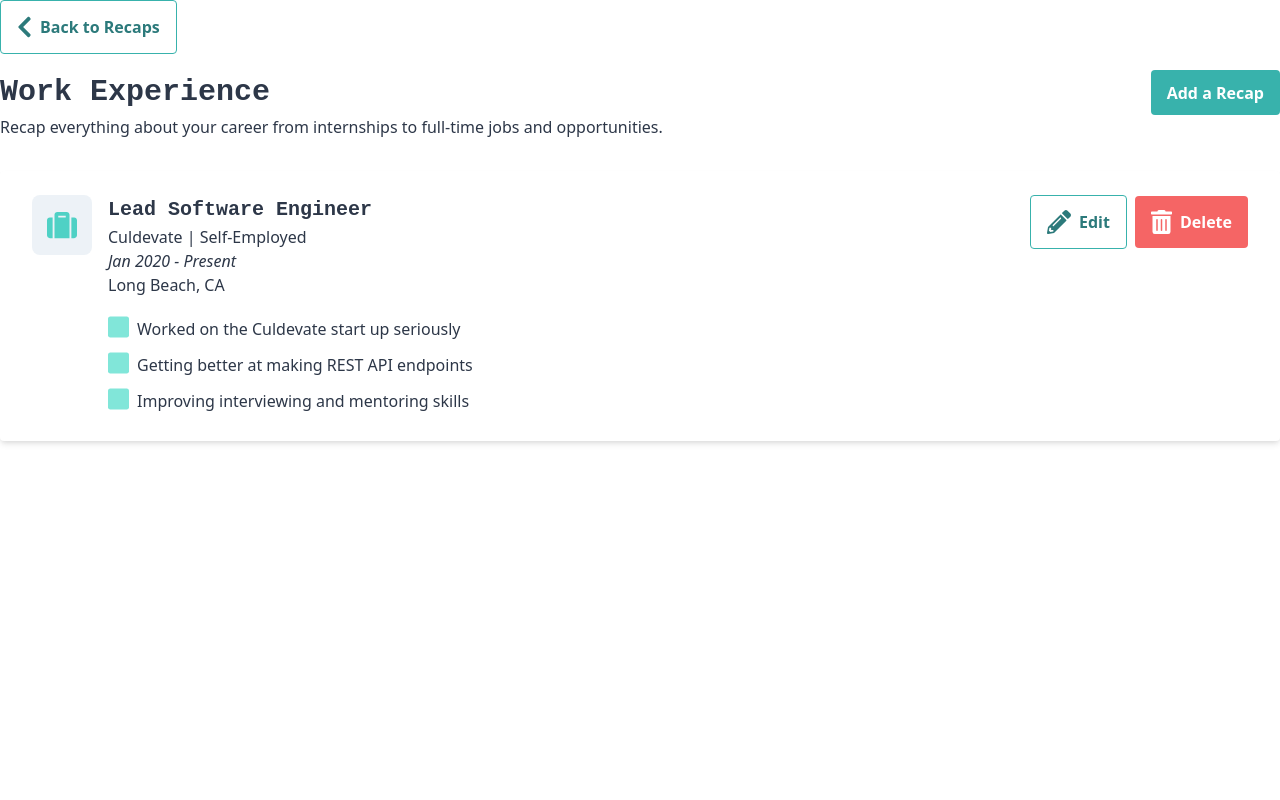
Test case: <WorkExperienceLayout /> › should show the error alert after failing to delete a recap
Click the button "Delete" at (1192, 222), box [1135,196,1248,248]
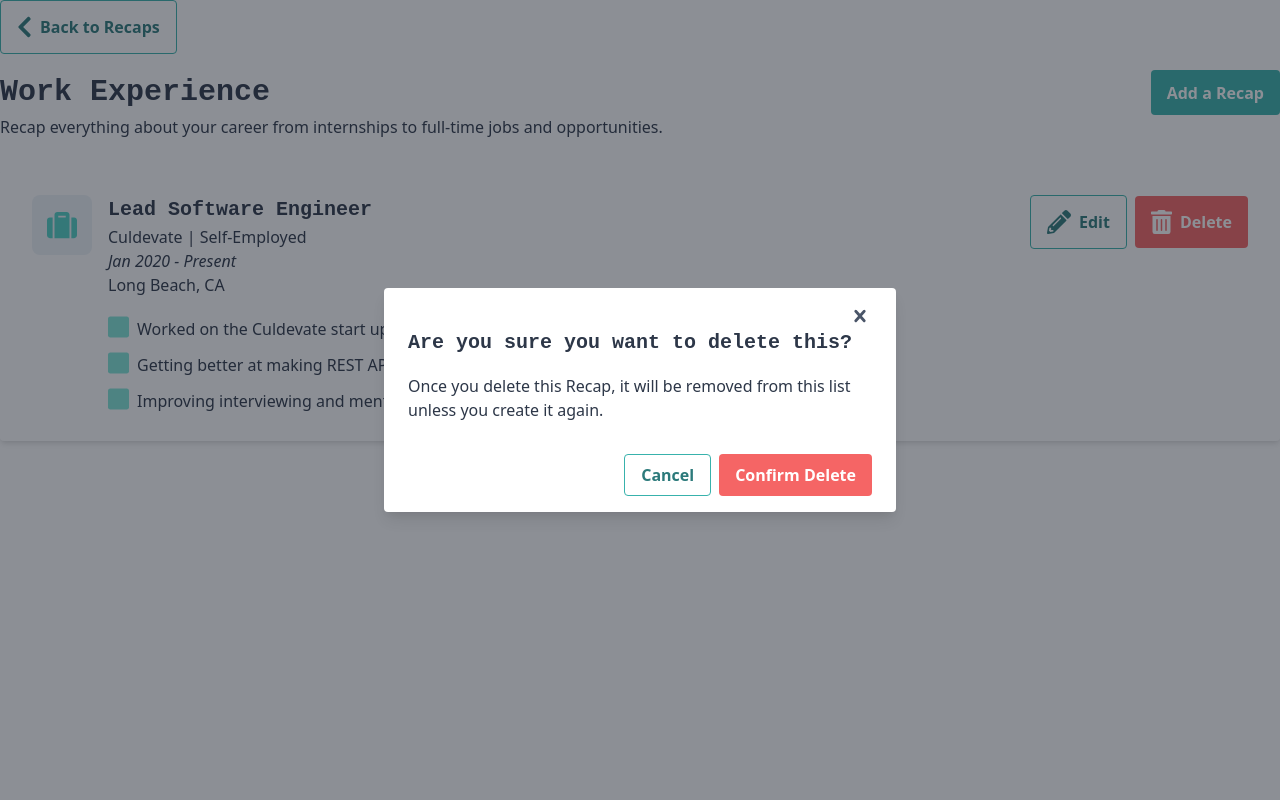
Check: the heading "Are you sure you want to delete this?" is shown, box [408,328,872,358]
Click the button "Confirm Delete" at (796, 475), box [719,454,872,496]
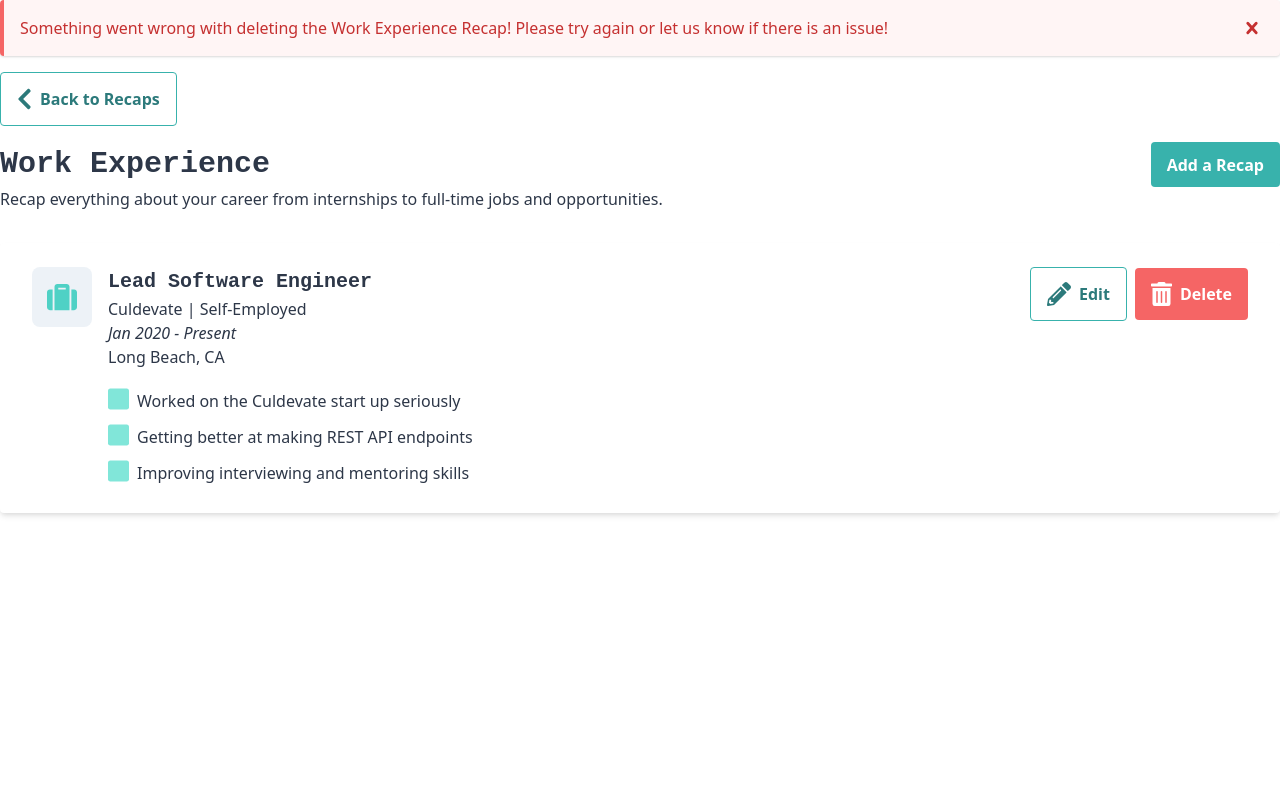
Check: the heading "Are you sure you want to delete this?" is gone
Check: the text "Something went wrong with deleting the Work Experience Recap!" is shown, box [20,17,888,39]
